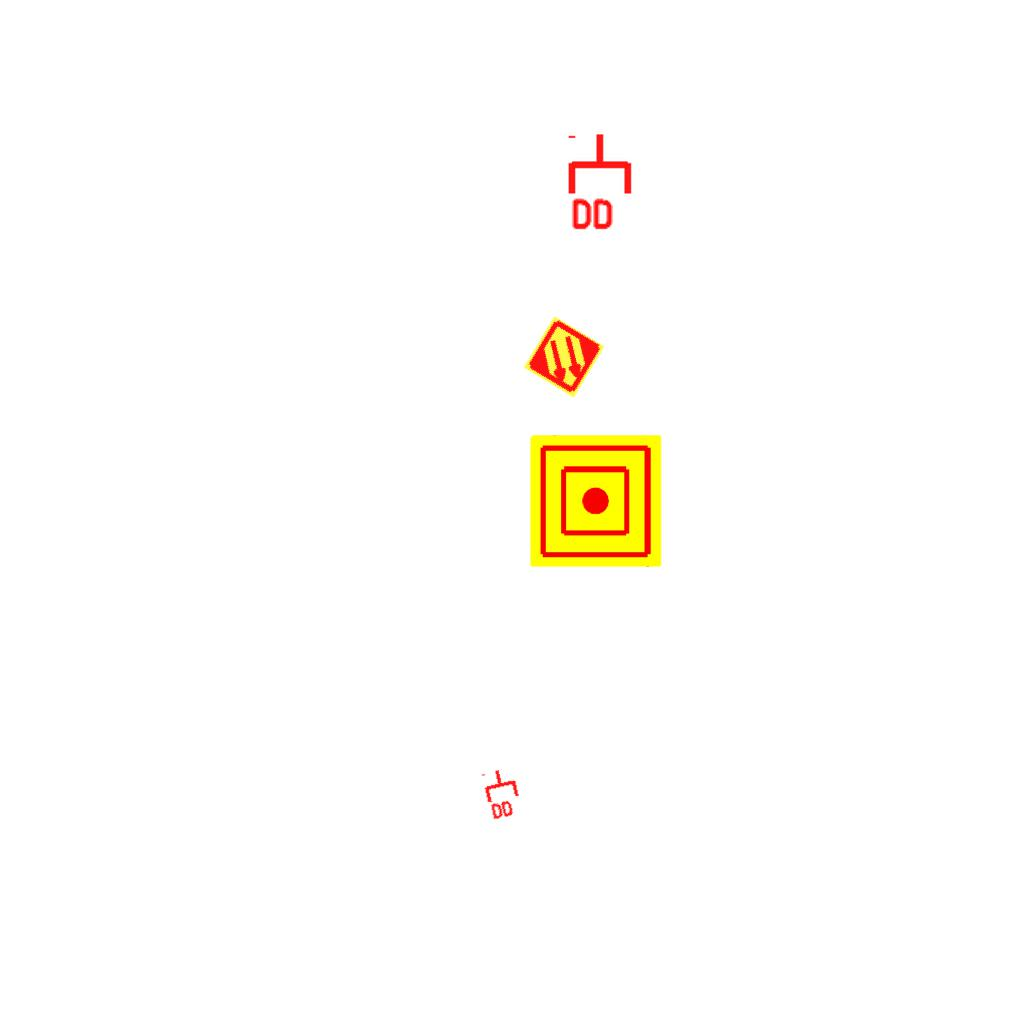ASR_Ansaugrauchmelder: (521, 314, 607, 400)
Datenanschluss_zweifach: (567, 131, 636, 234), (480, 764, 526, 823)
NAM-Nichtautomatischer_Melder: (530, 435, 662, 567)
